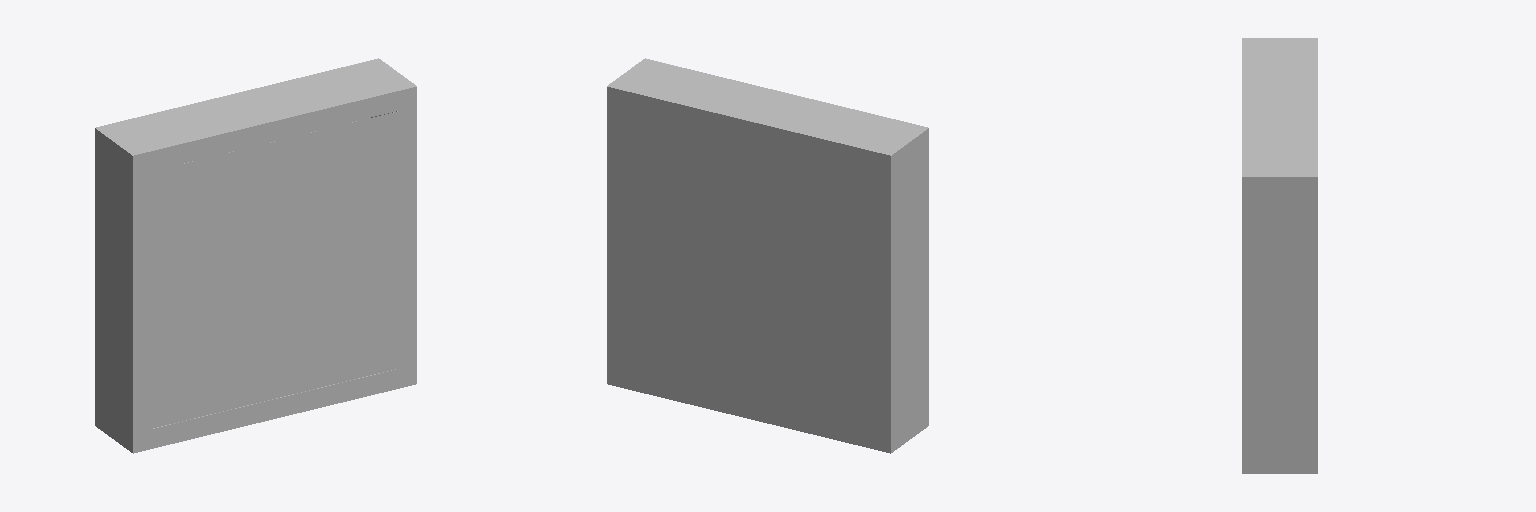
File: steamgauge.obj
3 views of the same model, side by side, from view 1: azimuth 30°, elevation 25°; view 2: azimuth 150°, elevation 25°; view 3: azimuth 270°, elevation 25° (orthographic).
Size of the model in its own units: 0.1875 by 0.1875 by 0.0438.